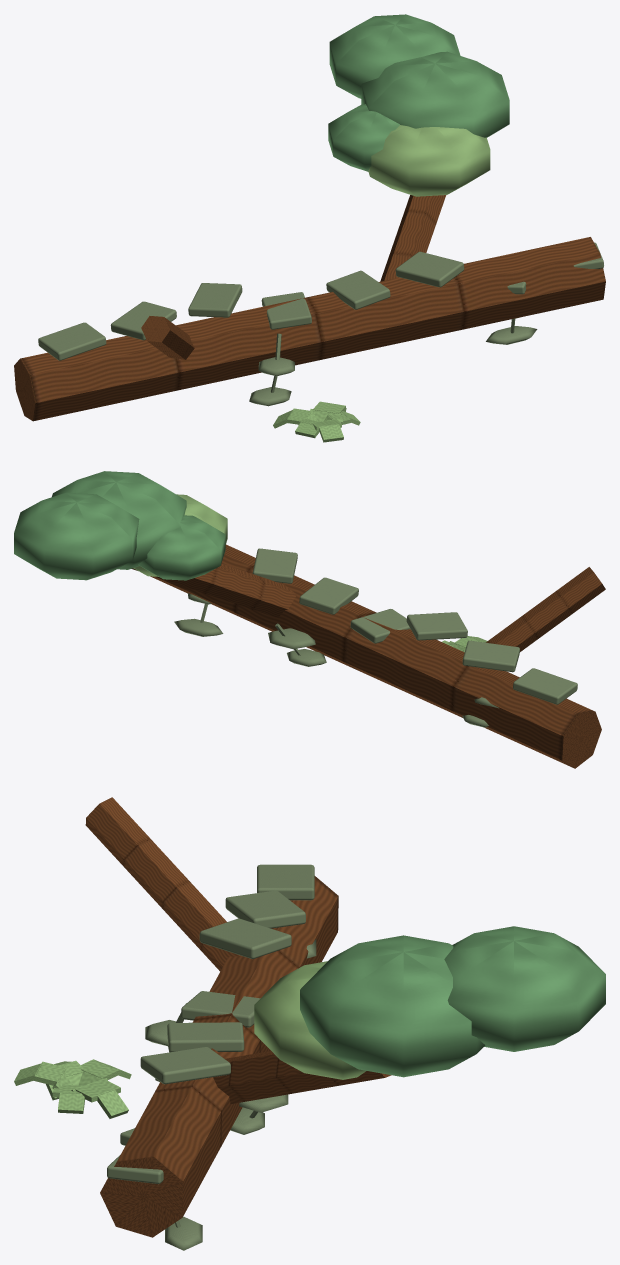
File: jungle-temple-and-stone-city-moss-draped-branch-70ab570e__36141.glb
3 renders of one model, top to bottom at view 1: azimuth 30°, elevation 25°; view 2: azimuth 150°, elevation 25°; view 3: azimuth 270°, elevation 25°, orthographic. The views are drawn at different scales.
Visible parts, largest first — view 1: moss-draped-branch; view 2: moss-draped-branch; view 3: moss-draped-branch.
Boxes of the visible parts, <box> form: moss-draped-branch: <box>14,14,605,442</box>; moss-draped-branch: <box>14,471,605,768</box>; moss-draped-branch: <box>14,797,605,1250</box>.
Bounding box in the file's own units: 3.69 × 1.54 × 2.66.
4 materials, 4 textured.
